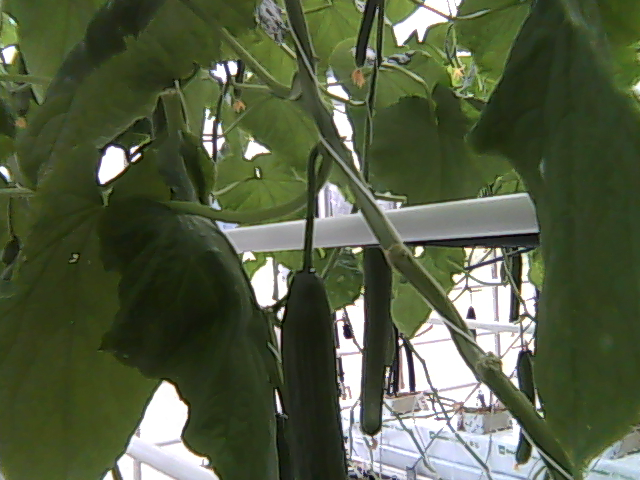concombre: (278, 263, 353, 480)
